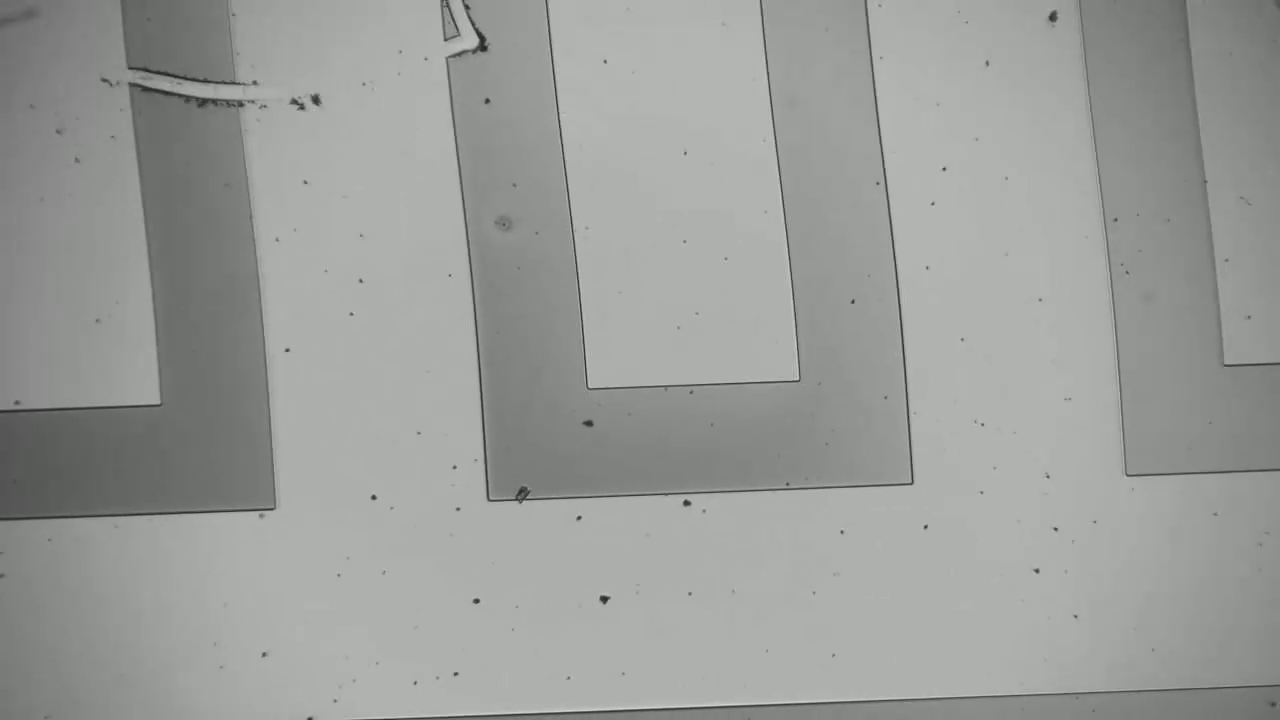Short_circuit: (97, 48, 282, 136)
